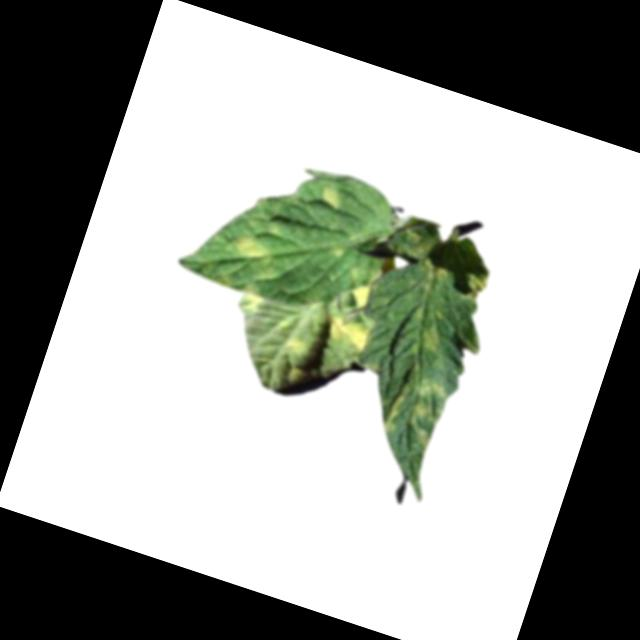Leaf_Mold: (378, 359, 457, 454), (222, 231, 286, 283), (319, 309, 378, 361), (415, 318, 447, 356), (343, 279, 377, 312), (314, 181, 346, 214), (235, 288, 268, 320), (282, 334, 309, 360)
